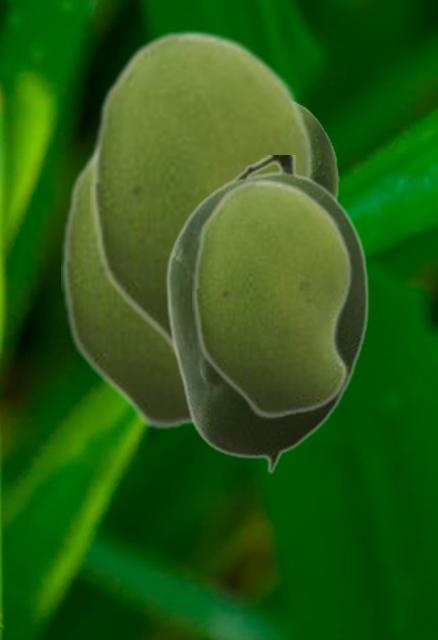green_mango: (90, 29, 314, 358), (164, 155, 368, 473), (192, 178, 352, 419), (61, 147, 193, 430), (299, 100, 338, 197)
